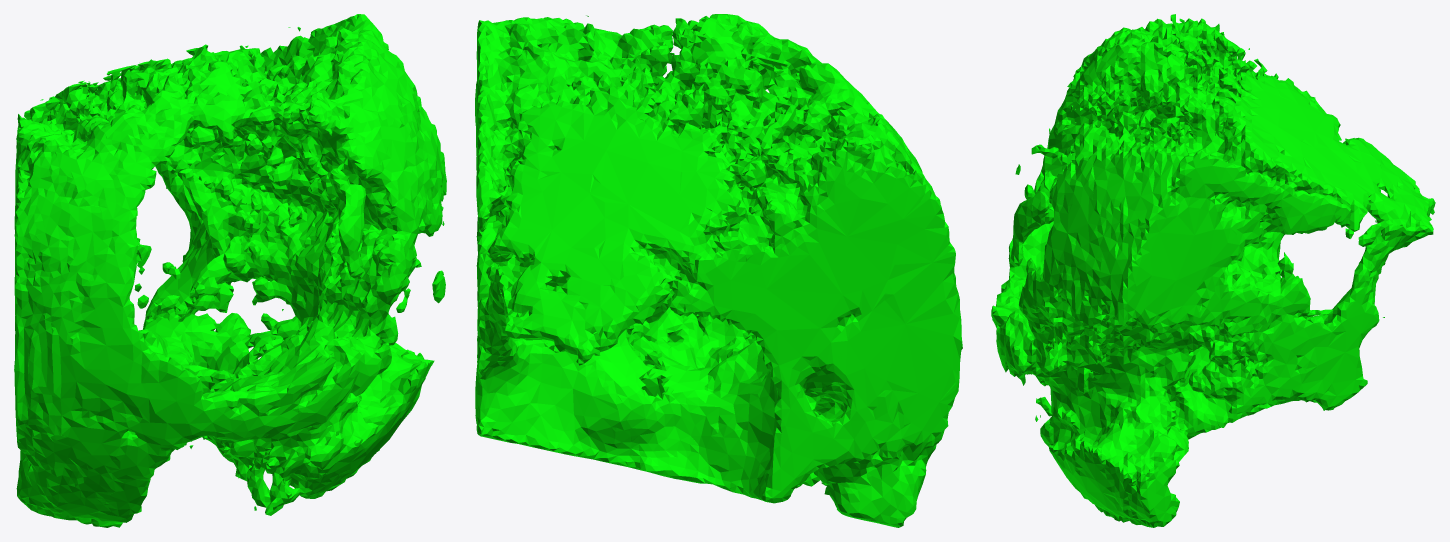
Rendered from B939XXXX-1_base_40.obj.
The picture shows the model from 3 angles, left to right: view 1: azimuth 30°, elevation 25°; view 2: azimuth 150°, elevation 25°; view 3: azimuth 270°, elevation 25°; orthographic projection. The views are drawn at different scales.
Visible parts, largest first — view 1: 40_base; view 2: 40_base; view 3: 40_base.
Part boxes in pixels (box(x1,y1,x2,y2)): 40_base: box(14, 14, 446, 527); 40_base: box(475, 14, 962, 527); 40_base: box(991, 14, 1435, 527).
Size of the model in its own units: 219 by 216 by 204.
